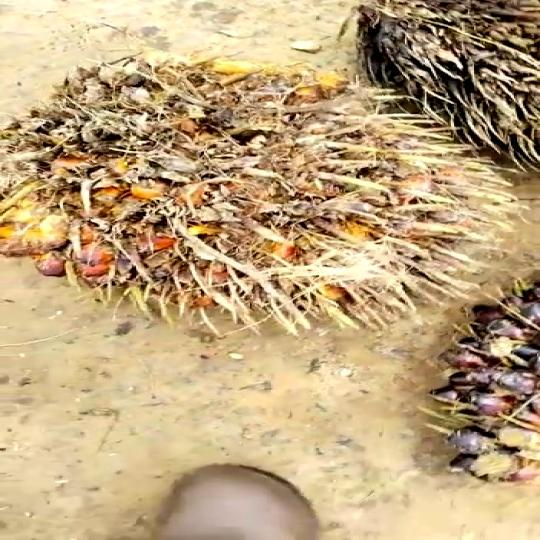terlalu masak: (0, 46, 482, 367)
